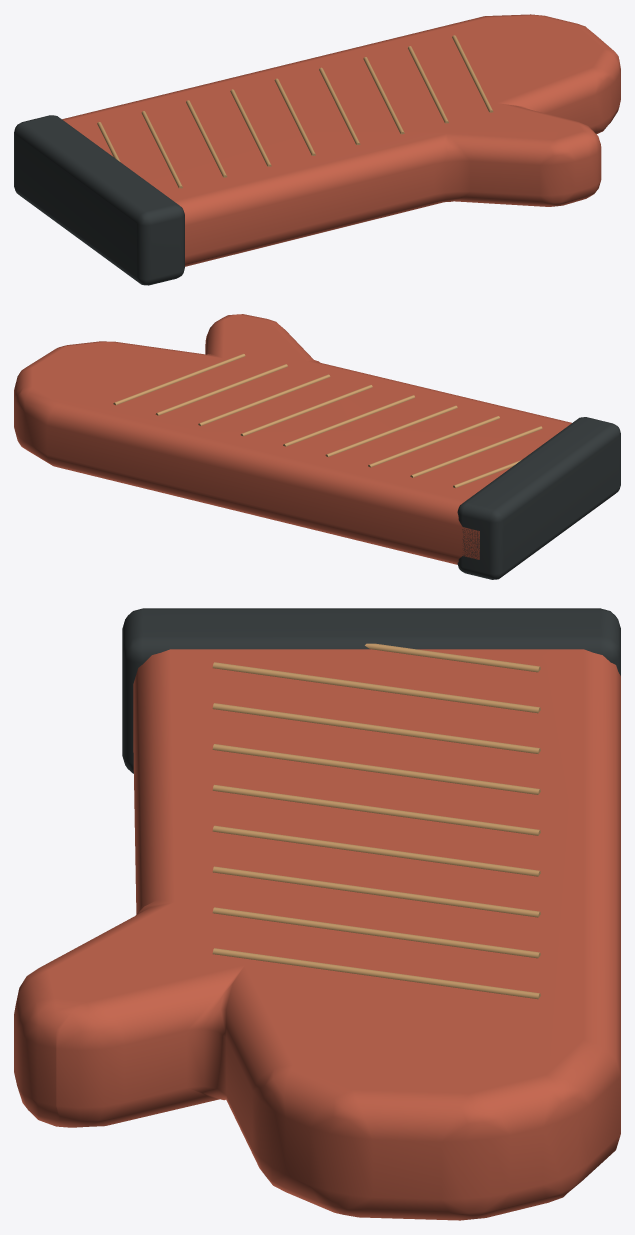
File: OvenMitt.glb
The picture shows the model from 3 angles, top to bottom: view 1: azimuth 30°, elevation 25°; view 2: azimuth 150°, elevation 25°; view 3: azimuth 270°, elevation 25°; orthographic projection. The views are drawn at different scales.
Visible parts, largest first — view 1: Padded mitt, Bound cuff, Quilt stitching.007, Quilt stitching.005, Quilt stitching.003, Quilt stitching.002, Quilt stitching.001, Quilt stitching.004, Quilt stitching.008, Quilt stitching.006; view 2: Padded mitt, Bound cuff, Quilt stitching.001, Quilt stitching.008, Quilt stitching.003, Quilt stitching.004, Quilt stitching.006, Quilt stitching.007, Quilt stitching.002, Quilt stitching.005; view 3: Padded mitt, Bound cuff, Quilt stitching.004, Quilt stitching.005, Quilt stitching.008, Quilt stitching.001, Quilt stitching.006, Quilt stitching.007, Quilt stitching.002, Quilt stitching.003, Quilt stitching.
Boxes of the visible parts, x1,y1,x2,y2 form: Padded mitt: [62, 14, 620, 266]; Bound cuff: [14, 115, 184, 285]; Quilt stitching.007: [408, 46, 448, 123]; Quilt stitching.005: [319, 67, 360, 144]; Quilt stitching.003: [230, 89, 271, 166]; Quilt stitching.002: [186, 100, 227, 177]; Quilt stitching.001: [141, 111, 182, 188]; Quilt stitching.004: [274, 78, 315, 155]; Quilt stitching.008: [452, 35, 493, 112]; Quilt stitching.006: [363, 57, 404, 134]; Padded mitt: [14, 314, 571, 564]; Bound cuff: [457, 417, 620, 579]; Quilt stitching.001: [410, 426, 542, 477]; Quilt stitching.008: [113, 353, 245, 405]; Quilt stitching.003: [325, 405, 457, 456]; Quilt stitching.004: [283, 395, 415, 446]; Quilt stitching.006: [198, 374, 330, 425]; Quilt stitching.007: [155, 364, 287, 415]; Quilt stitching.002: [368, 416, 499, 467]; Quilt stitching.005: [240, 385, 372, 436]; Padded mitt: [14, 649, 620, 1220]; Bound cuff: [122, 608, 620, 773]; Quilt stitching.004: [212, 784, 540, 835]; Quilt stitching.005: [212, 825, 540, 876]; Quilt stitching.008: [212, 948, 540, 999]; Quilt stitching.001: [212, 662, 540, 713]; Quilt stitching.006: [212, 866, 540, 917]; Quilt stitching.007: [212, 907, 540, 958]; Quilt stitching.002: [212, 703, 540, 753]; Quilt stitching.003: [212, 744, 540, 794]; Quilt stitching: [365, 643, 540, 672].
Size of the model in its own units: 0.2325 by 0.03 by 0.1193.
